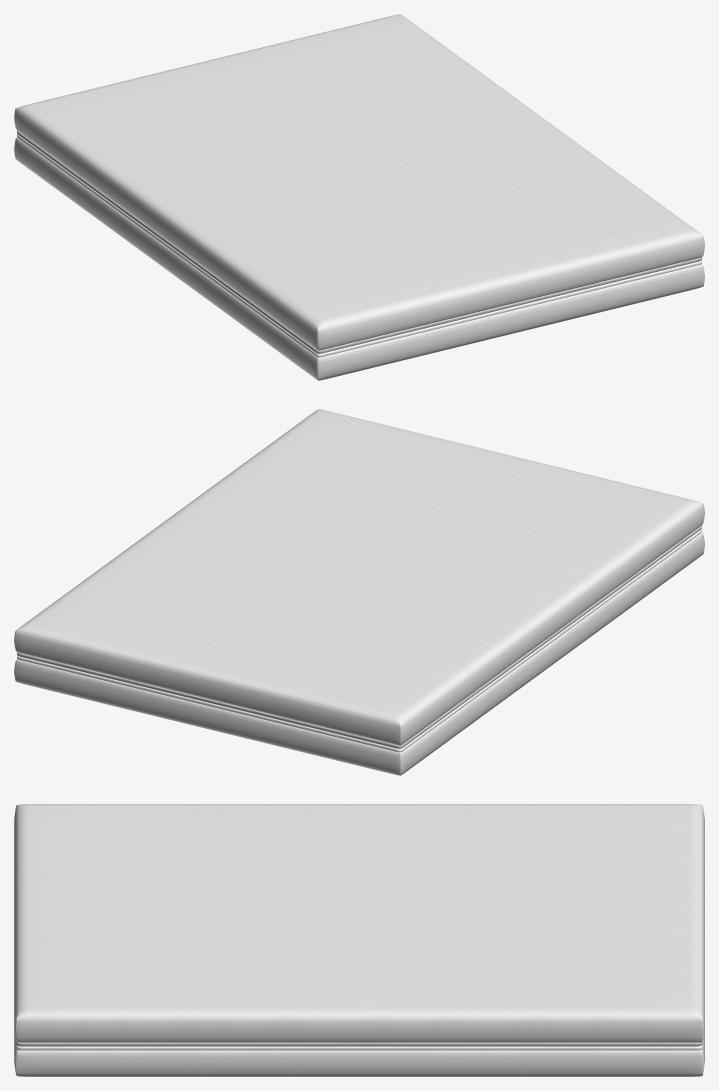
3 views of the same model, one above another, from view 1: azimuth 30°, elevation 25°; view 2: azimuth 150°, elevation 25°; view 3: azimuth 270°, elevation 25° (orthographic). The views are drawn at different scales.
Visible parts, largest first — view 1: B07SY36LZ3; view 2: B07SY36LZ3; view 3: B07SY36LZ3.
Part boxes in pixels (x1=…): B07SY36LZ3: x1=14, y1=14, x2=704, y2=380; B07SY36LZ3: x1=14, y1=409, x2=704, y2=775; B07SY36LZ3: x1=14, y1=804, x2=704, y2=1076.
Size of the model in its own units: 1.4 by 0.1999 by 1.9.
Materials: 1 (1 with a texture image).
